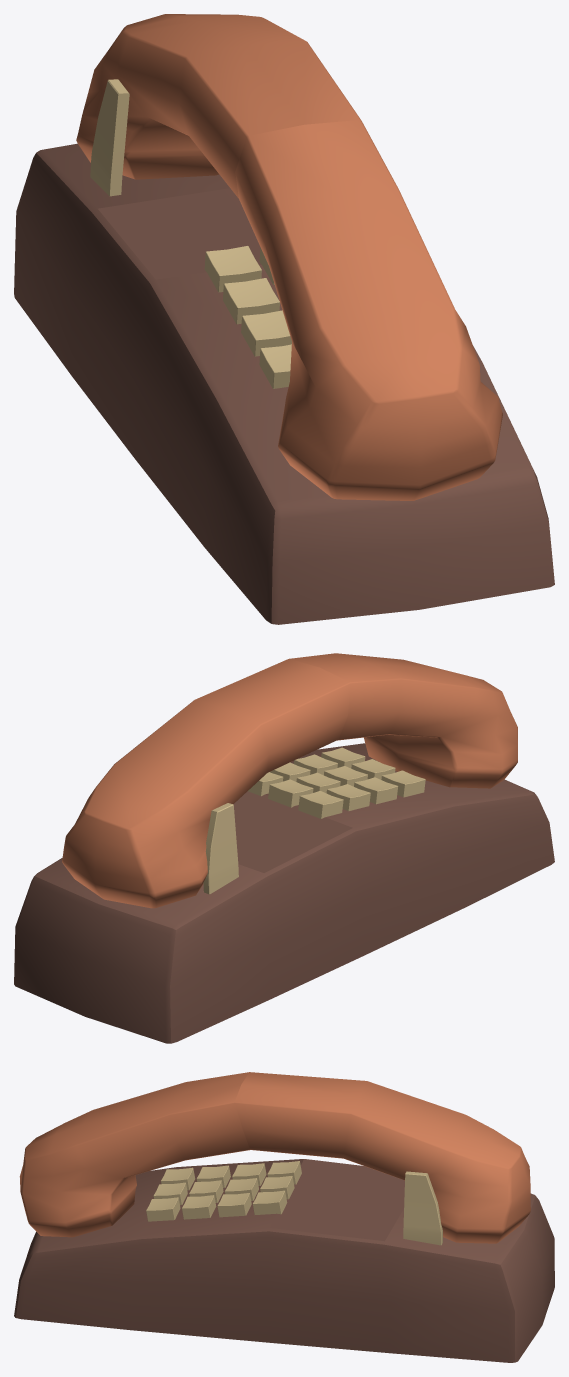
File: telephone.fbx
The picture shows the model from 3 angles, top to bottom: view 1: azimuth 30°, elevation 25°; view 2: azimuth 150°, elevation 25°; view 3: azimuth 270°, elevation 25°; orthographic projection. The views are drawn at different scales.
Visible parts, largest first — view 1: curve3_325; view 2: curve3_325; view 3: curve3_325.
Boxes of the visible parts, x1,y1,x2,y2 form: curve3_325: [14, 14, 554, 624]; curve3_325: [14, 653, 554, 1043]; curve3_325: [14, 1072, 554, 1362].
Size of the model in its own units: 13.78 by 11.29 by 25.96.
